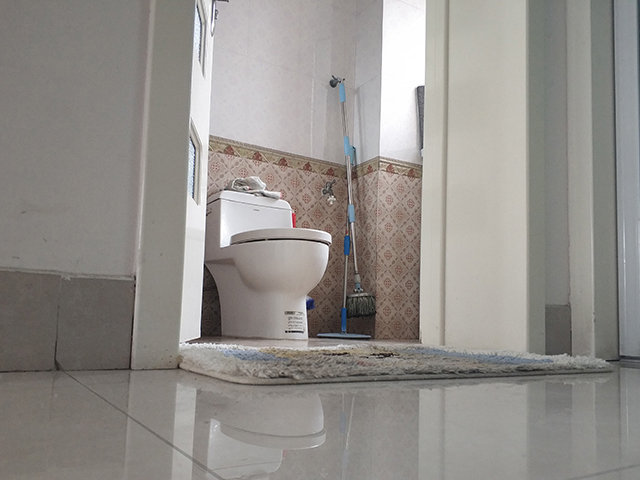carpet: (178, 340, 616, 388)
closestool: (203, 188, 334, 342)
